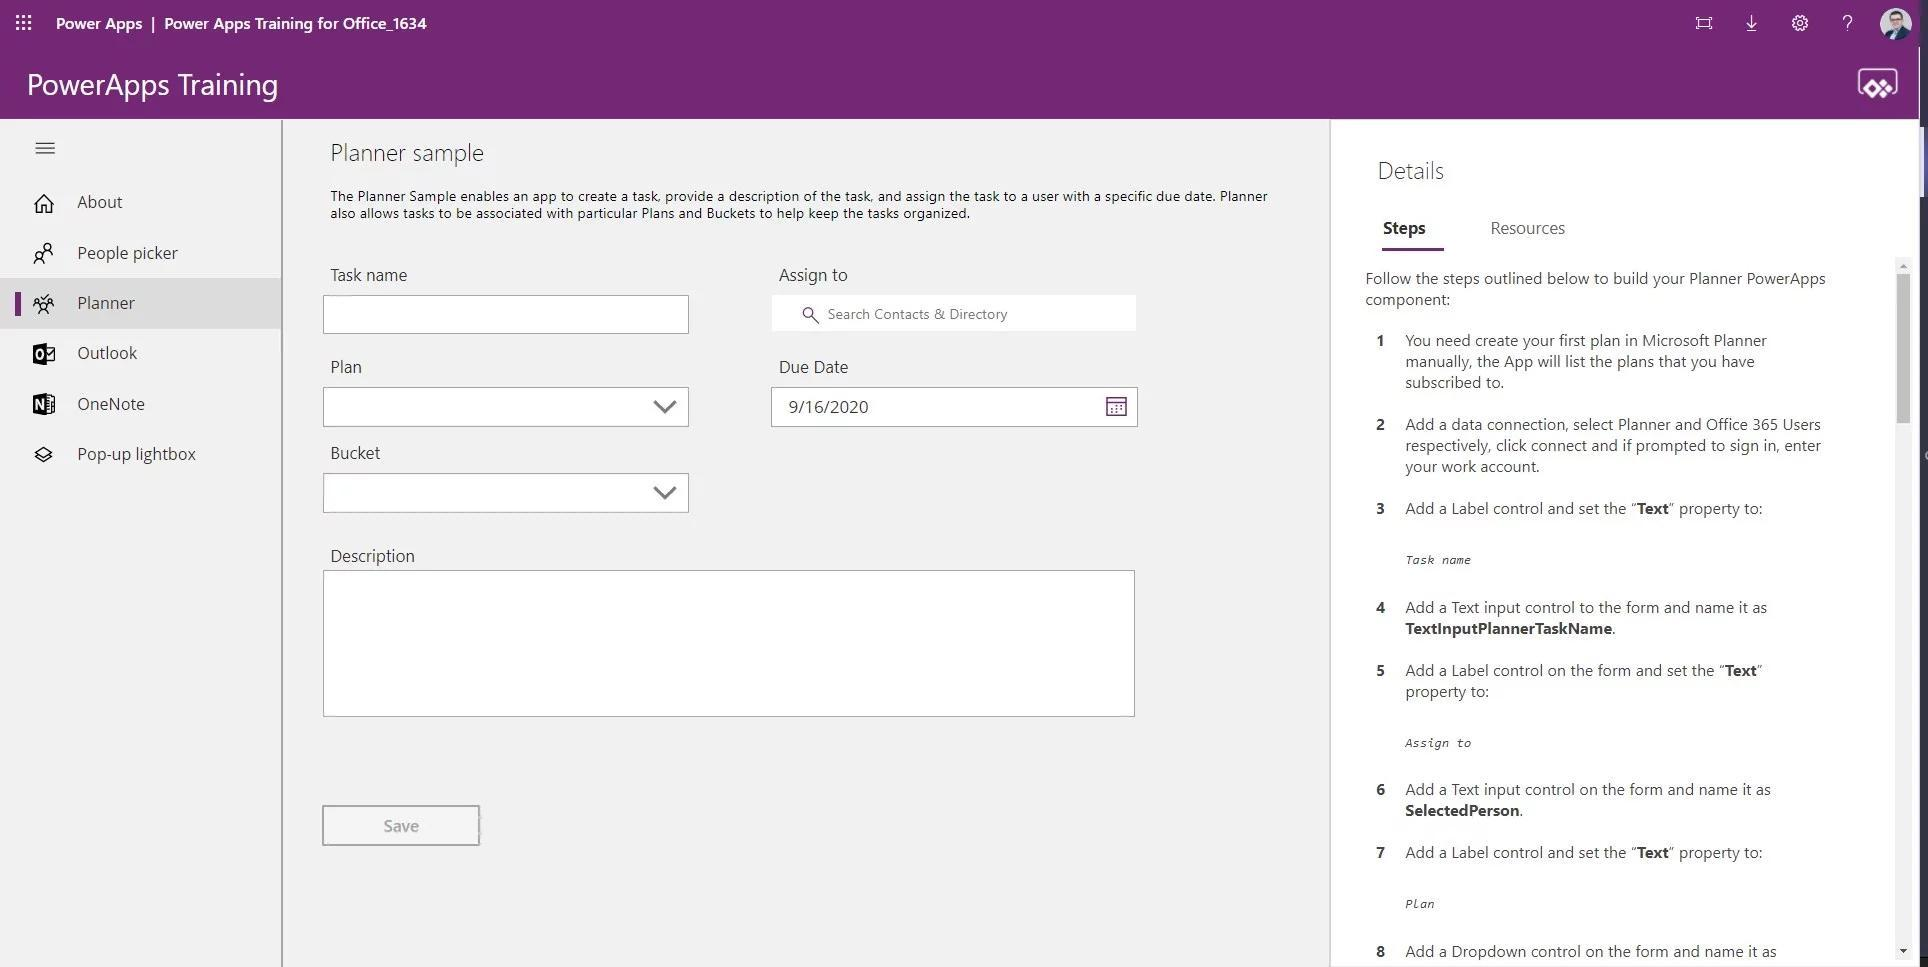button: (322, 804, 483, 849)
dropdown: (322, 387, 692, 430), (322, 472, 692, 516)
icon: (32, 343, 58, 368), (32, 393, 59, 417), (30, 241, 55, 264), (35, 194, 57, 215), (35, 294, 55, 316), (35, 446, 54, 465), (35, 141, 58, 155), (1791, 15, 1810, 33), (1694, 16, 1715, 32), (1746, 14, 1759, 35)
input: (770, 386, 1142, 432), (322, 294, 692, 338), (770, 294, 1140, 335)
label: (28, 72, 282, 105), (329, 141, 486, 168), (76, 446, 198, 465), (76, 245, 182, 264), (325, 546, 417, 567), (328, 265, 411, 287), (1377, 159, 1447, 185), (1487, 220, 1571, 241), (775, 266, 849, 285), (76, 396, 148, 414), (778, 360, 851, 377), (76, 295, 137, 313), (76, 345, 141, 363), (1381, 221, 1430, 242), (76, 194, 125, 213), (330, 446, 382, 463), (329, 361, 365, 376)
